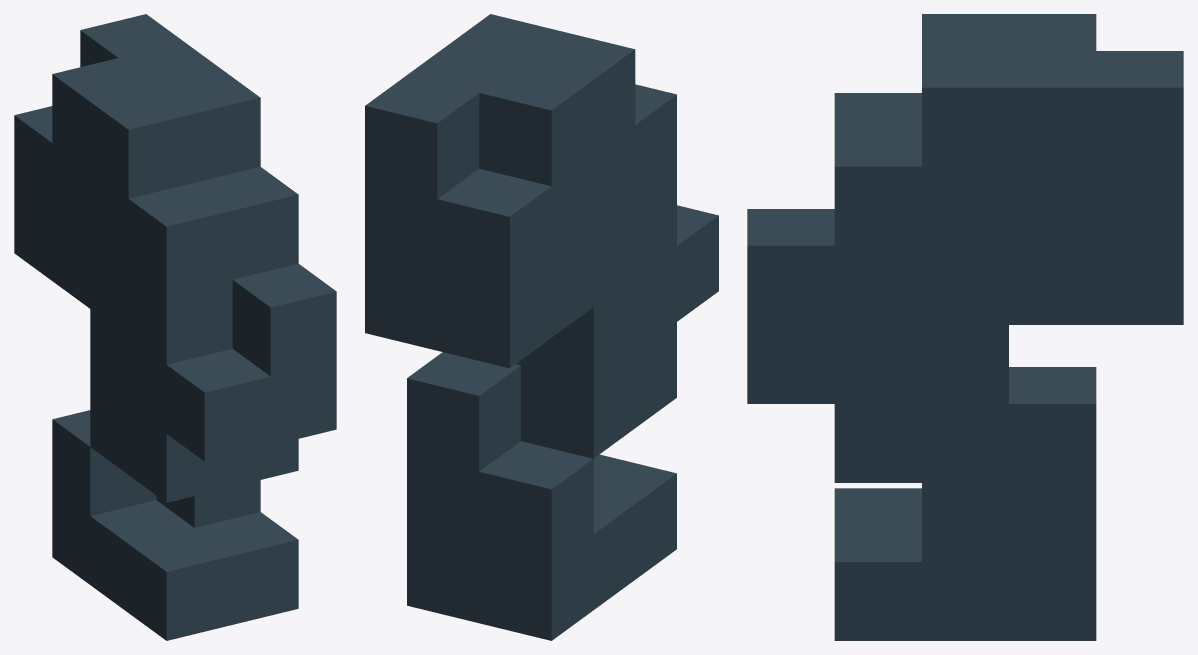
File: Fish guy leg 1.obj
The picture shows the model from 3 angles, left to right: view 1: azimuth 30°, elevation 25°; view 2: azimuth 150°, elevation 25°; view 3: azimuth 270°, elevation 25°; orthographic projection. The views are drawn at different scales.
Bounding box in the file's own units: 2 × 7 × 5.
1 material, 1 textured.
